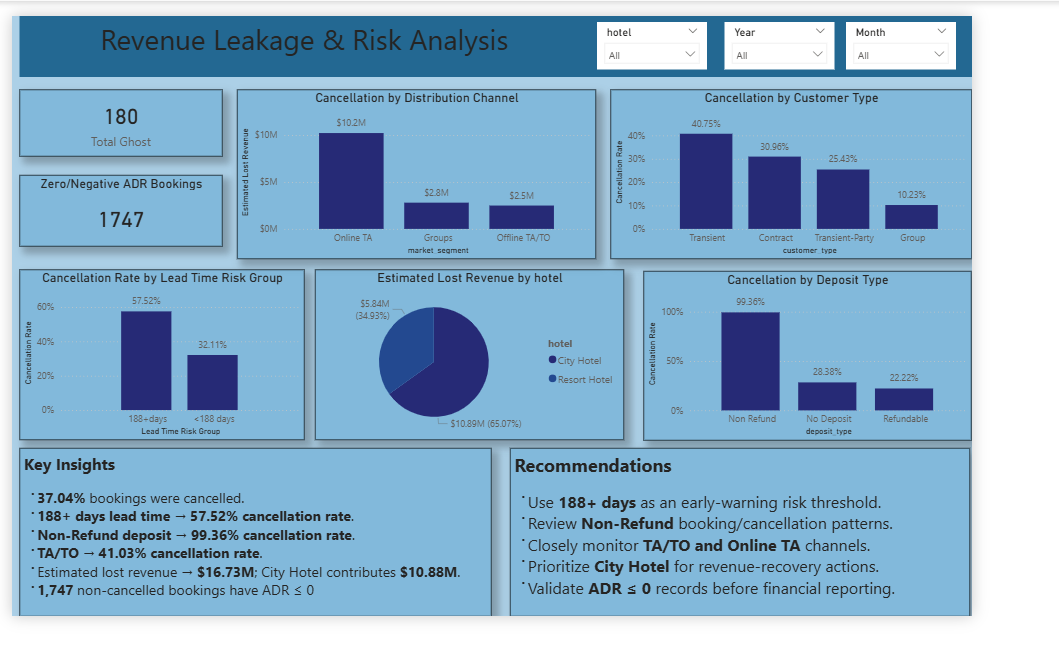

This screenshot's page, from the dashboard's own definition file:
{"tool":"powerbi","page":{"name":"Revenue Leakage & Risk Analysis","canvas":[1280,800],"ordinal":1},"visuals":[{"type":"textbox","box":[9.4,0,1269.9,81.3],"z":0},{"type":"clusteredColumnChart","fields":{"Y":["DAX.Cancellation Rate"],"Category":["hotel_booking_clean.Lead Time Risk Group"]},"box":[9.5,338.8,380.2,227.5],"z":1000},{"type":"clusteredColumnChart","title":"Cancellation by Deposit Type","fields":{"Y":["DAX.Cancellation Rate"],"Category":["hotel_booking_clean.deposit_type"]},"box":[841.4,340.4,437.4,225.9],"z":2000},{"type":"pieChart","fields":{"Category":["hotel_booking_clean.hotel"],"Y":["DAX.Estimated Lost Revenue"]},"box":[404,338.8,412,227.5],"z":3000},{"type":"slicer","fields":{"Values":["hotel_booking_clean.hotel"]},"box":[780,8.3,146.7,63.3],"z":4000},{"type":"slicer","fields":{"Values":["hotel_booking_clean.arrival_date.Variation.Date Hierarchy.Year"]},"box":[950,8.3,146.7,63.3],"z":5000},{"type":"slicer","fields":{"Values":["hotel_booking_clean.arrival_date.Variation.Date Hierarchy.Month"]},"box":[1111.7,8.3,146.7,63.3],"z":6000},{"type":"clusteredColumnChart","title":"Cancellation by Distribution Channel","fields":{"Category":["hotel_booking_clean.market_segment"],"Y":["DAX.Estimated Lost Revenue"]},"box":[300.6,98.6,478.8,225.9],"z":7000},{"type":"clusteredColumnChart","title":"Cancellation by Customer Type","fields":{"Y":["DAX.Cancellation Rate"],"Category":["hotel_booking_clean.customer_type"]},"box":[798.5,98.6,482,225.9],"z":8000},{"type":"card","fields":{"Values":["DAX.Total Ghost"]},"box":[9.5,98.6,270.4,89.1],"z":9000},{"type":"card","title":"Zero/Negative ADR Bookings","fields":{"Values":["DAX.Zero Negative ADR"]},"box":[9.5,211.6,270.4,95.4],"z":10000},{"type":"textbox","box":[10.6,576.2,629.2,224.5],"z":11000},{"type":"textbox","box":[664.5,576.2,613.3,224.5],"z":12000}]}

Visuals, with their boxes in screenshot pixels (x1, y1, x2, y2), scaled from the page's 1280x800 canvas onto the 1059x656 screenshot:
textbox: 8 0 1058 67
clusteredColumnChart - DAX.Cancellation Rate x hotel_booking_clean.Lead Time Risk Group: 8 278 322 464
"Cancellation by Deposit Type" clusteredColumnChart: 696 279 1058 464
pieChart - hotel_booking_clean.hotel x DAX.Estimated Lost Revenue: 334 278 675 464
slicer - hotel_booking_clean.hotel: 645 7 767 59
slicer - hotel_booking_clean.arrival_date.Variation.Date Hierarchy.Year: 786 7 907 59
slicer - hotel_booking_clean.arrival_date.Variation.Date Hierarchy.Month: 920 7 1041 59
"Cancellation by Distribution Channel" clusteredColumnChart: 249 81 645 266
"Cancellation by Customer Type" clusteredColumnChart: 661 81 1058 266
card - DAX.Total Ghost: 8 81 232 154
"Zero/Negative ADR Bookings" card: 8 174 232 252
textbox: 9 472 529 655
textbox: 550 472 1057 655
